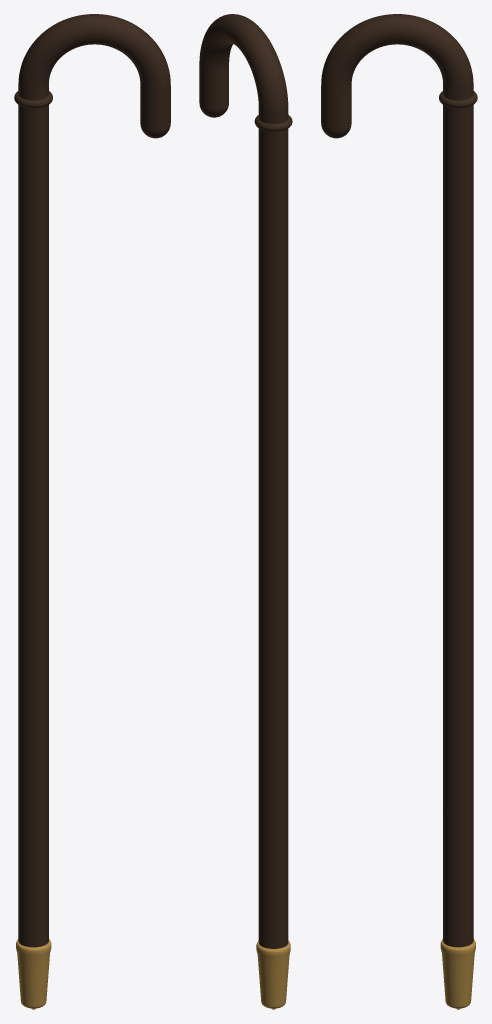
The model's file is cane.glb.
The picture shows the model from 3 angles, left to right: view 1: azimuth 90°, elevation 25°; view 2: azimuth 210°, elevation 25°; view 3: azimuth 270°, elevation 25°; orthographic projection. The views are drawn at different scales.
Parts seen in each view (by area): view 1: cane, tip; view 2: cane, tip; view 3: cane, tip.
Boxes of the visible parts, left/top/right/bottom form: cane: left=14, top=14, right=170, bottom=947; tip: left=16, top=939, right=51, bottom=1009; cane: left=199, top=14, right=292, bottom=948; tip: left=256, top=940, right=290, bottom=1009; cane: left=321, top=14, right=477, bottom=947; tip: left=440, top=939, right=475, bottom=1009.
Size of the model in its own units: 0.032 by 0.9 by 0.1285.
